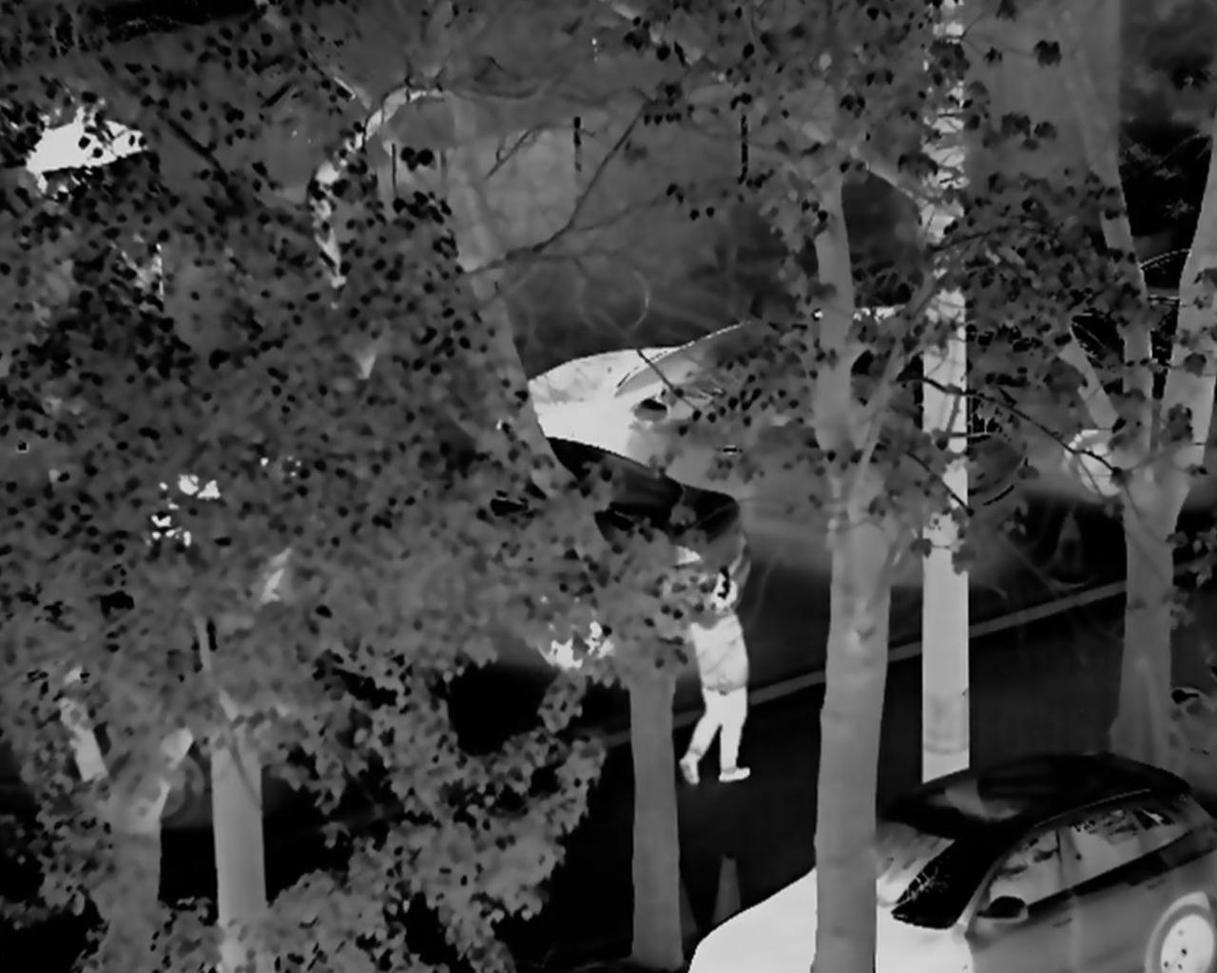person: (666, 551, 752, 788)
